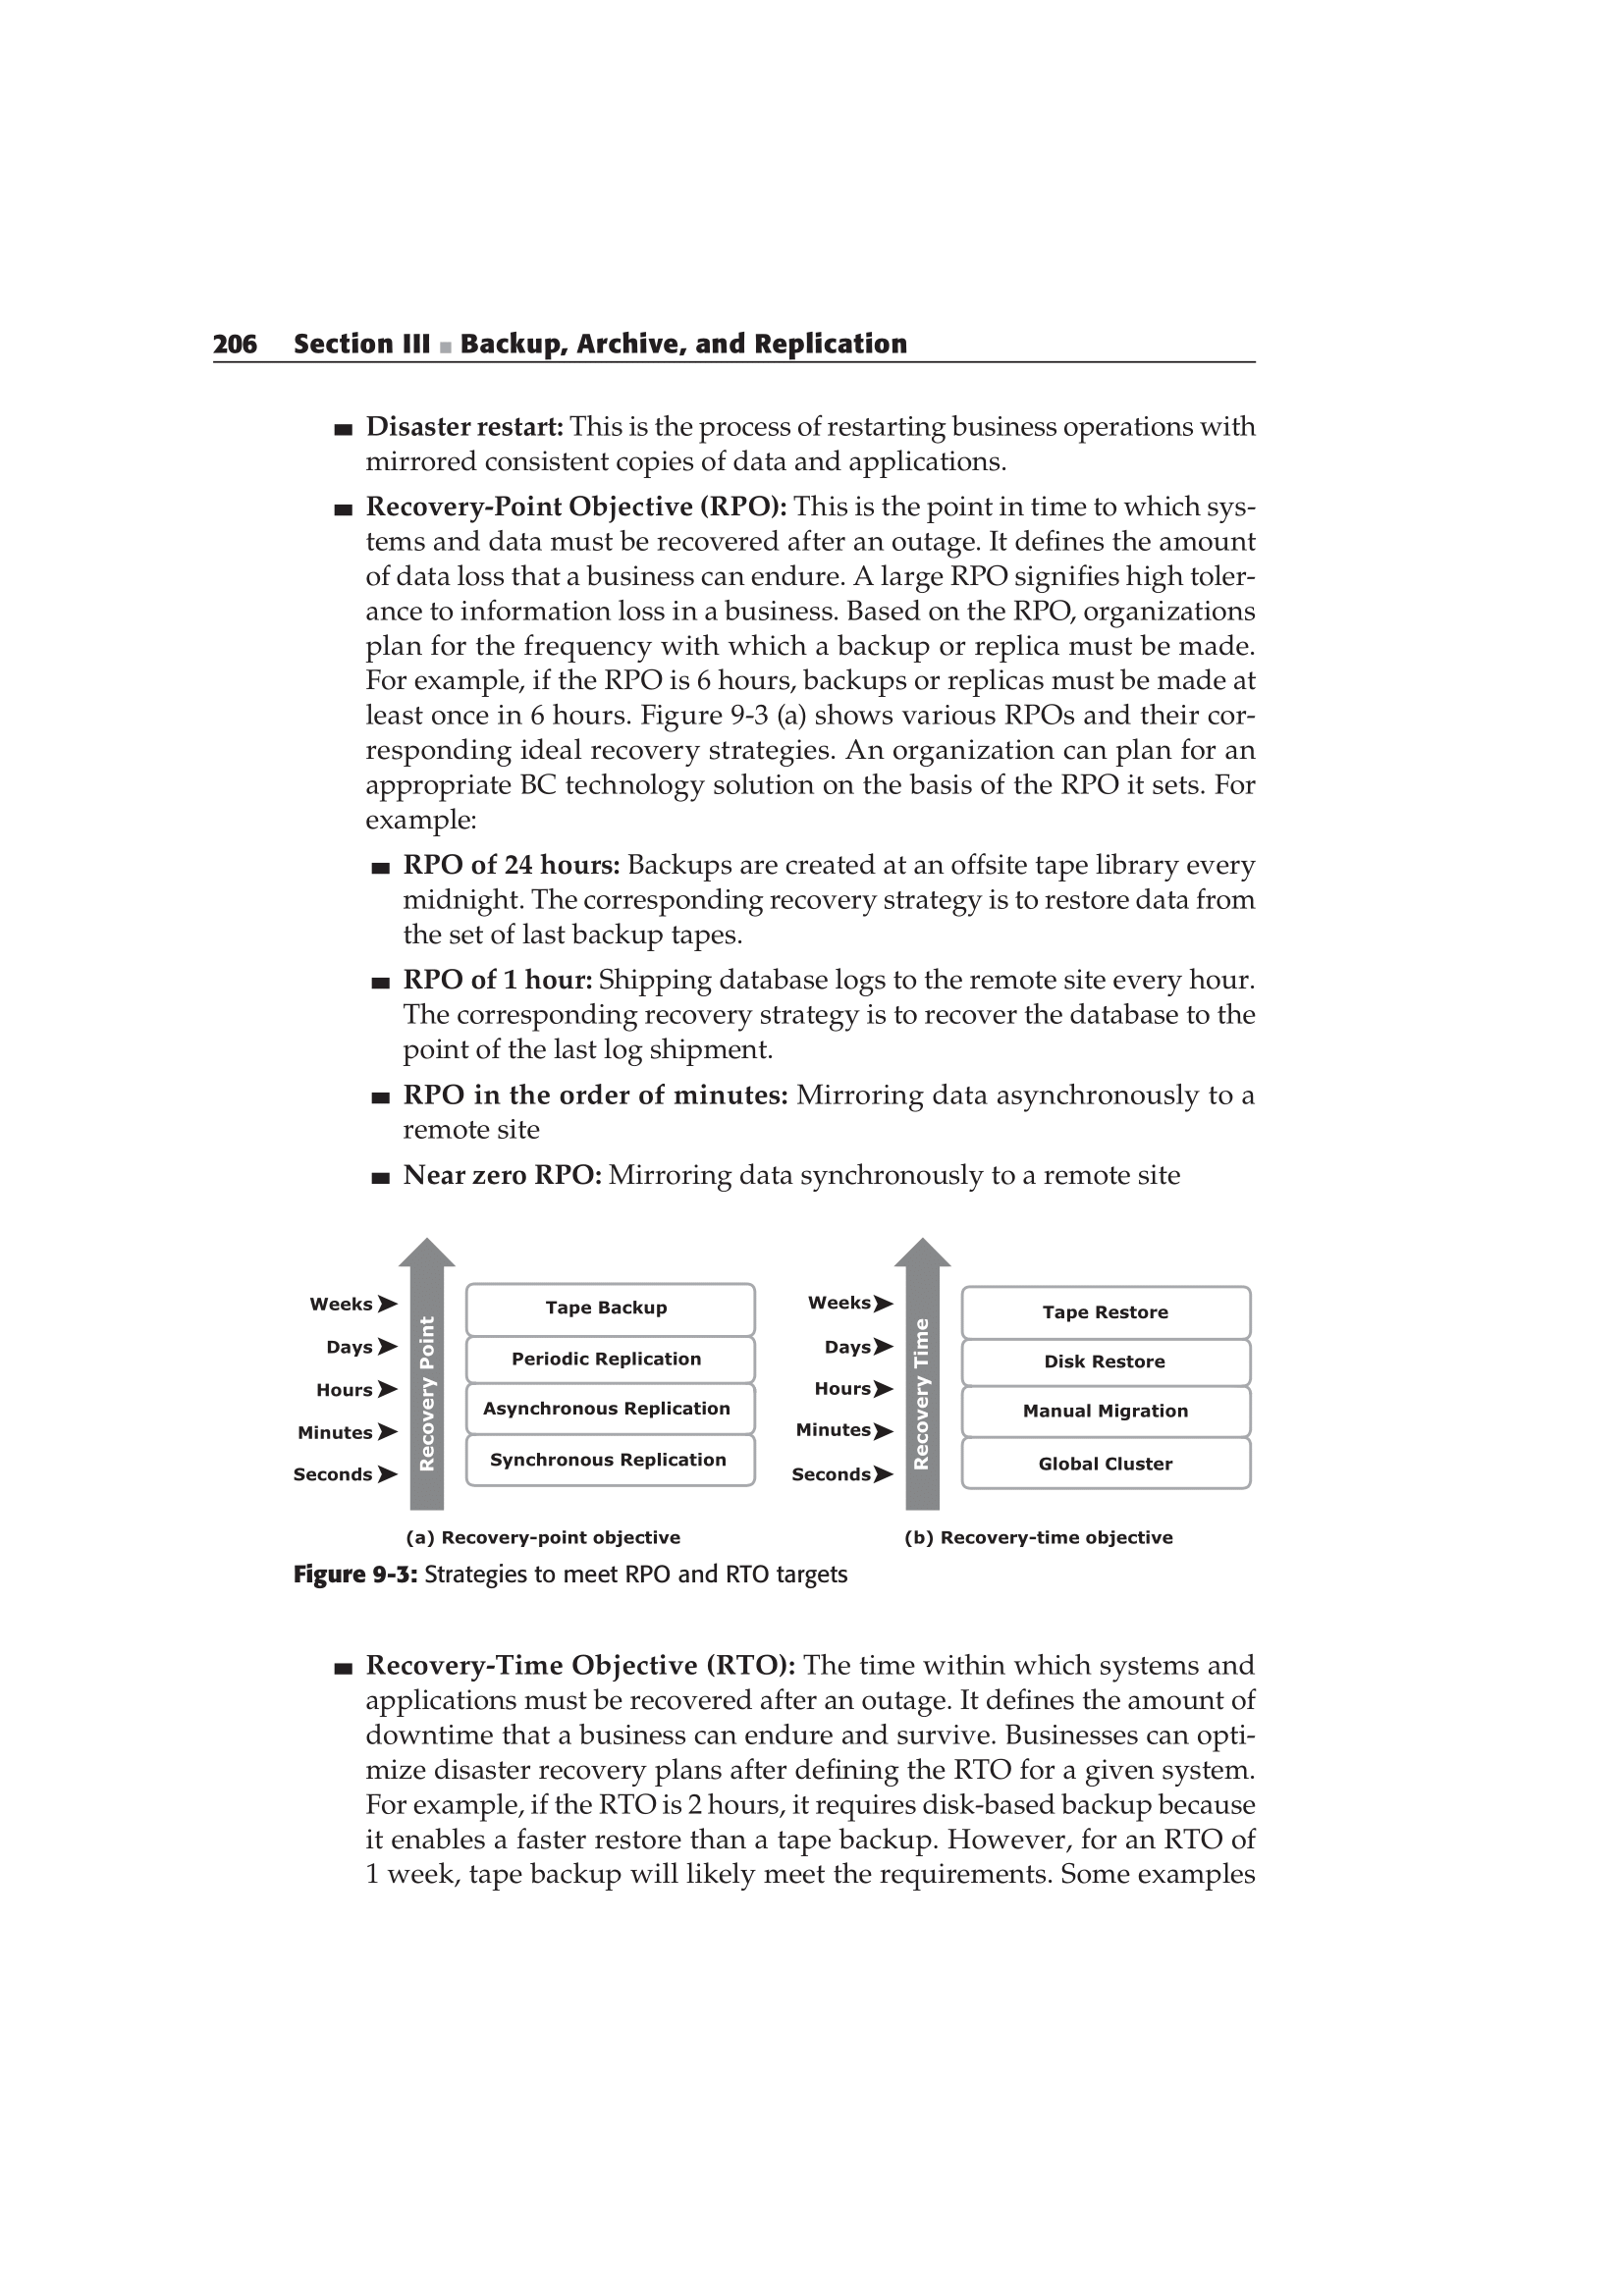Image: (256, 1227, 752, 1553), (783, 1231, 1279, 1557)
Paragraph: (260, 493, 1493, 832), (221, 1647, 1340, 1920), (306, 839, 1298, 964), (307, 960, 1379, 1062), (174, 286, 1143, 383), (335, 397, 1258, 493), (302, 1080, 1354, 1155), (260, 1166, 1340, 1223), (278, 1561, 898, 1615)
